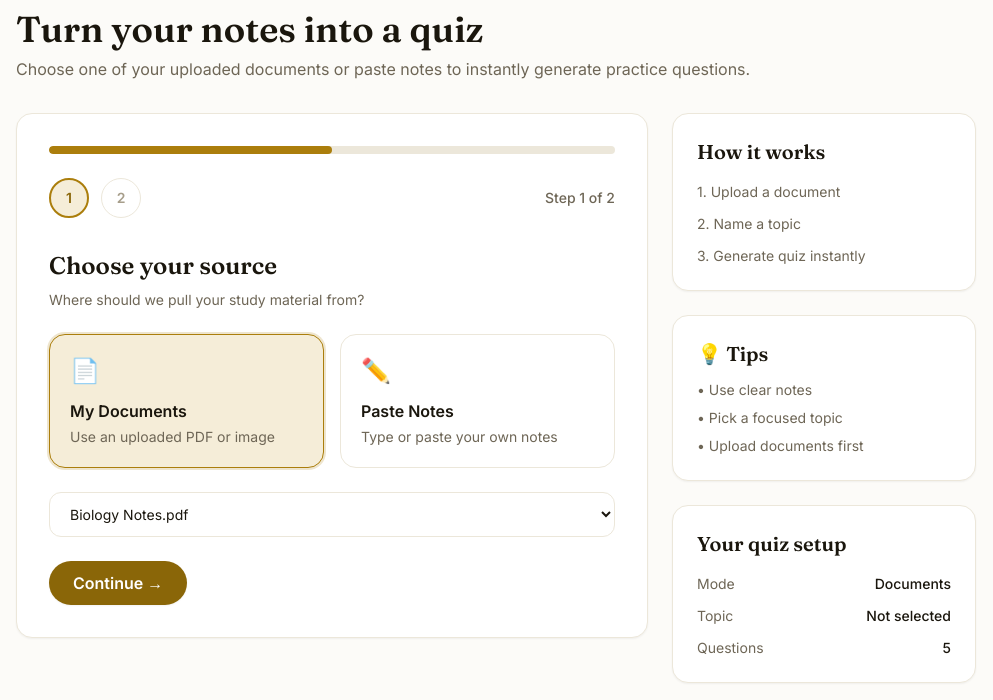
Test: QuizGenerator — Step 2: Configuration and generation › shows error message when error prop is set
Click the button "Continue →". click: (118, 583)
box: [49,561,187,605]
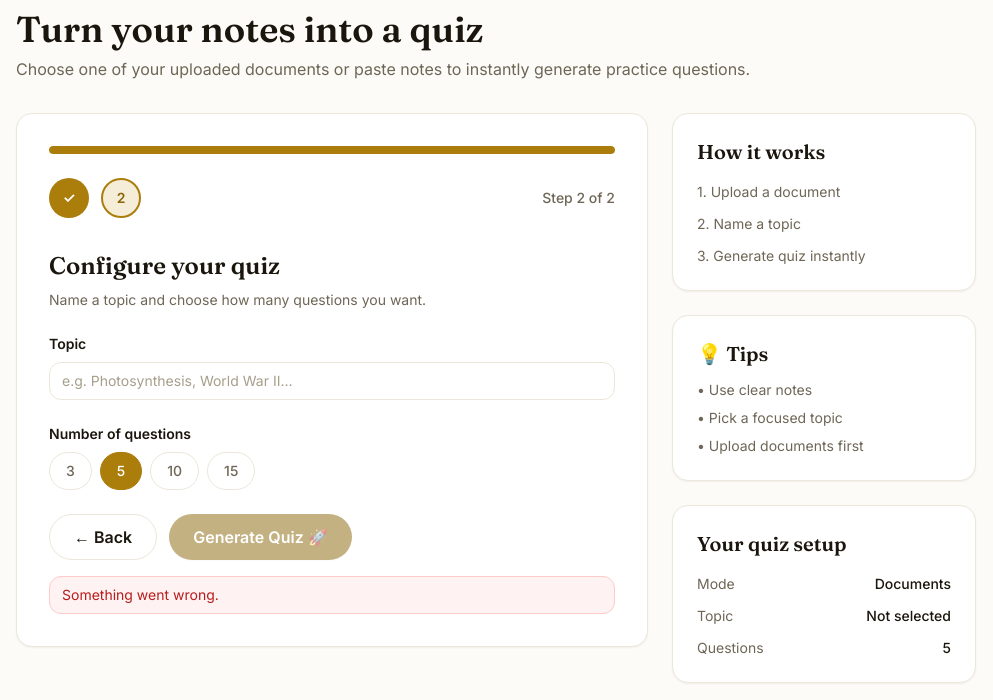
Check: the text "Something went wrong." is shown, box [49,576,615,614]
